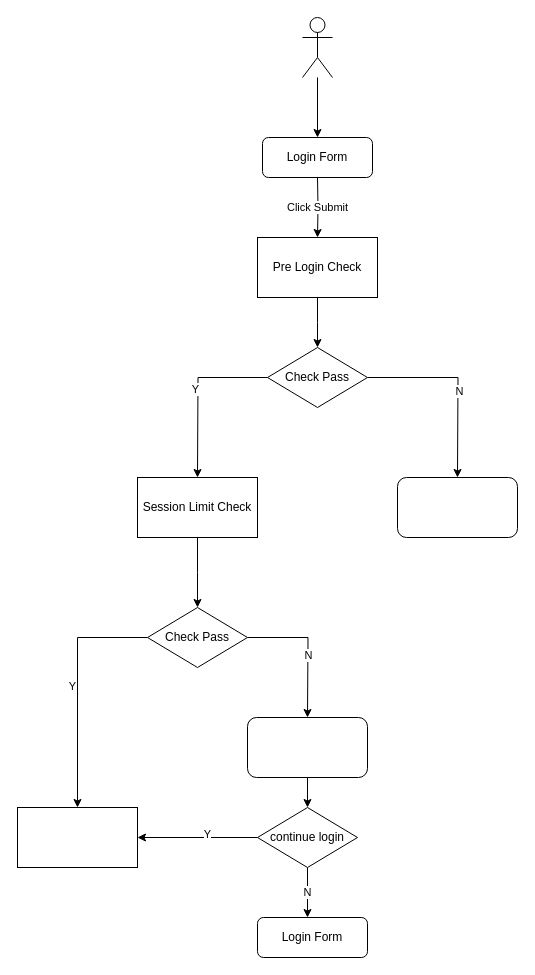
Some shapes in this 535 by 975 pixel diagram are drawn without their labels. The box of each missing label's shape, as (x1, y1, x2, y2) in pixels:
Actor: (302, 16, 332, 78)
Login Submit: (16, 806, 138, 868)
Show Tips: account not found or password was incorrect: (396, 476, 518, 538)
Show Tips: Session exceed, continue or not: (246, 716, 368, 778)
